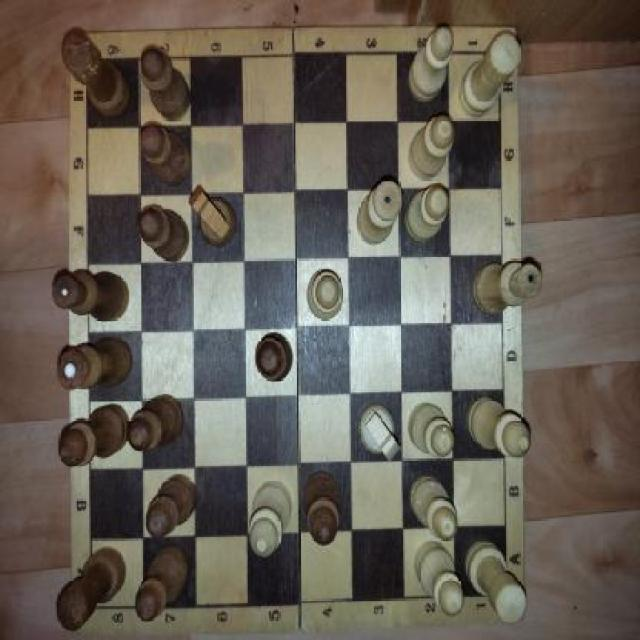chess-table-corners: (70, 29, 112, 97), (482, 558, 526, 622), (473, 28, 518, 86), (70, 580, 118, 634)
